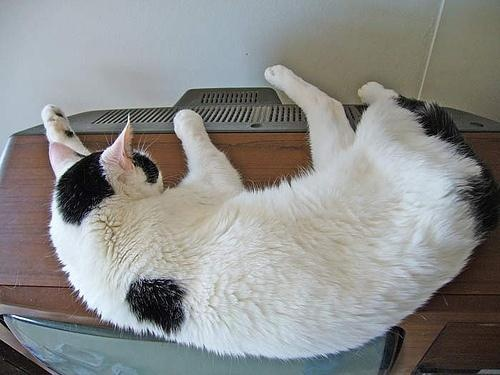cat: (43, 64, 500, 362)
tvmonitor: (2, 88, 500, 375)
